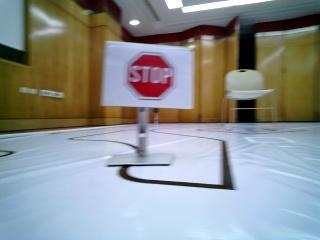stop: (110, 40, 188, 108)
